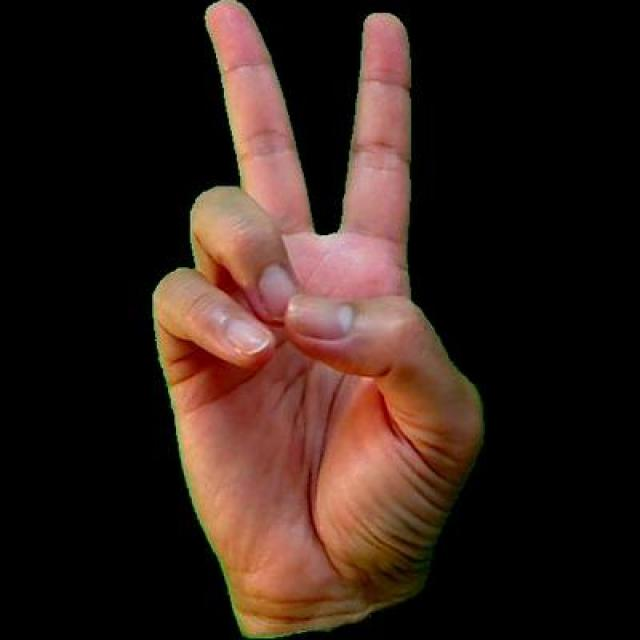v: (125, 0, 485, 637)
